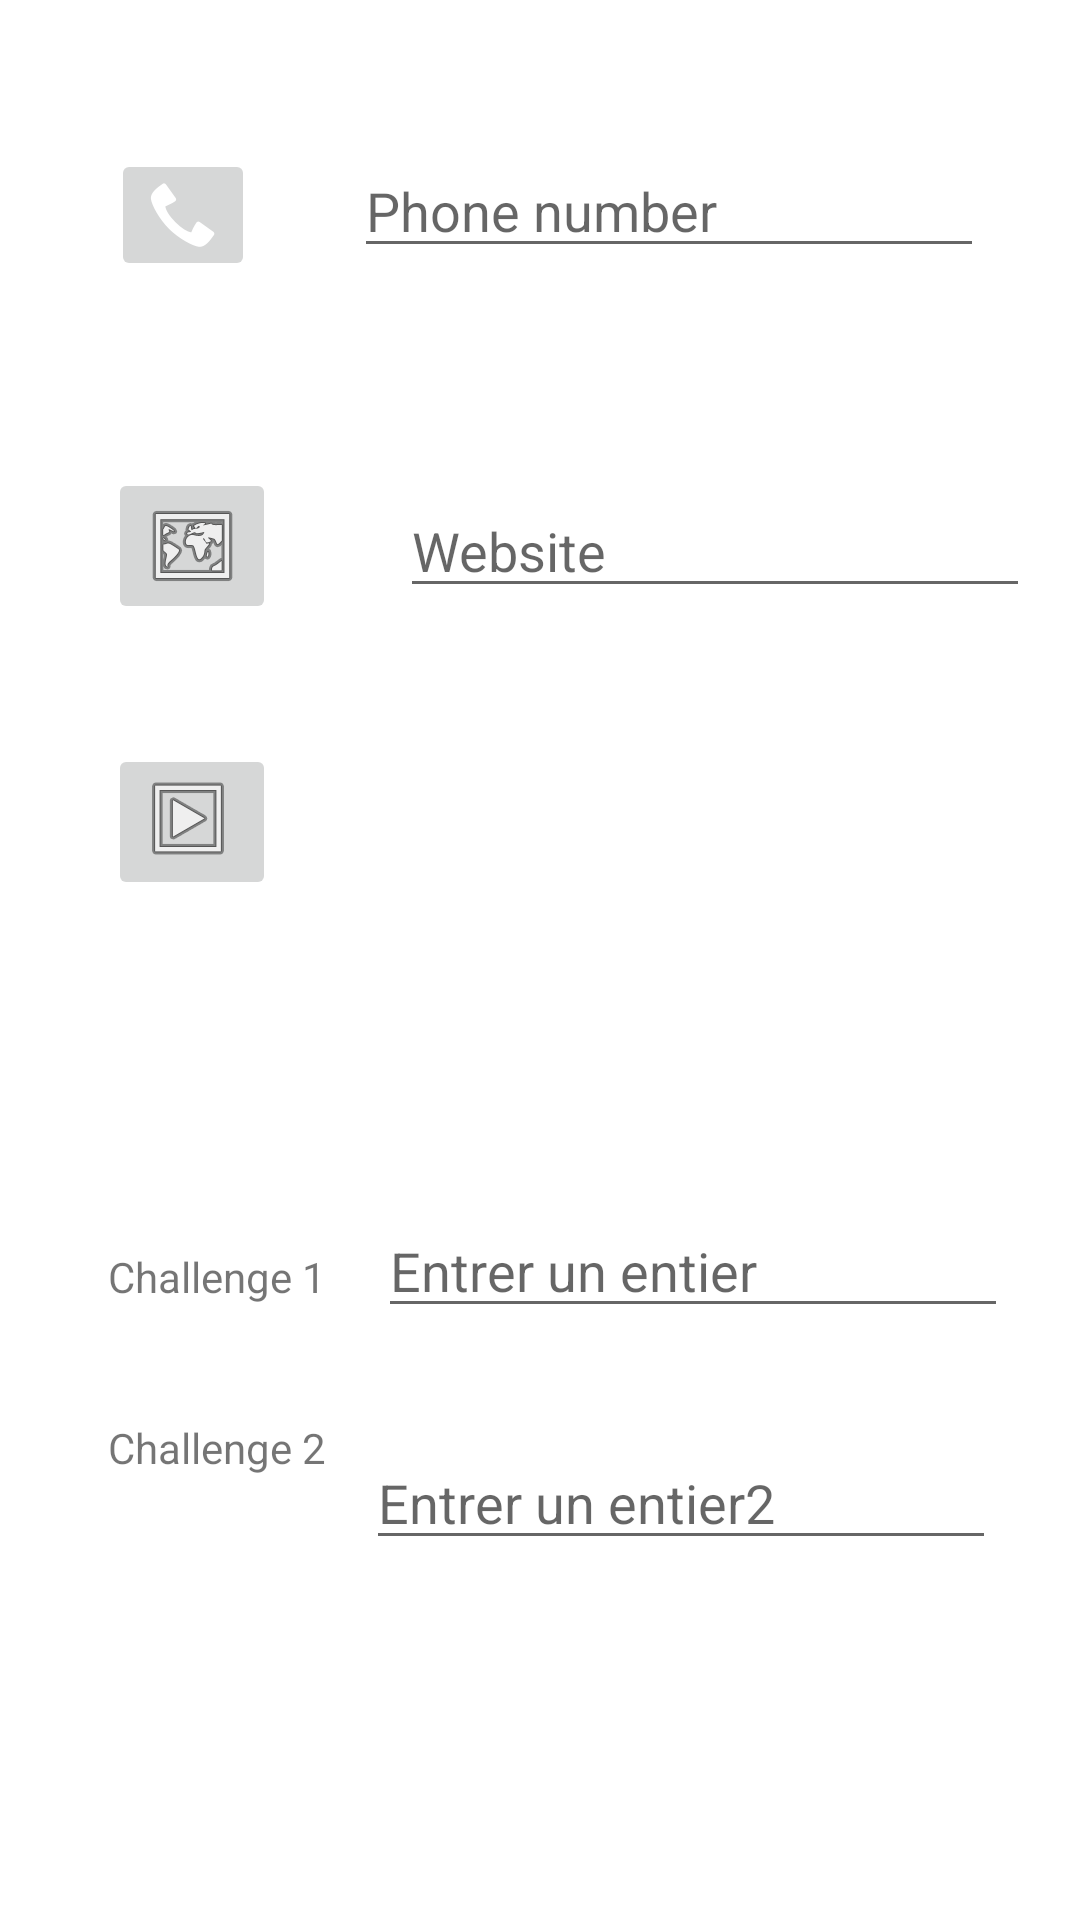

Screen size 1080px×1920px. Icon name, then its box in pixels as (x1, y1, x2, y2):
mapmode: (120, 486, 264, 606)
phone call: (123, 167, 243, 263)
slideshow: (120, 762, 264, 882)
